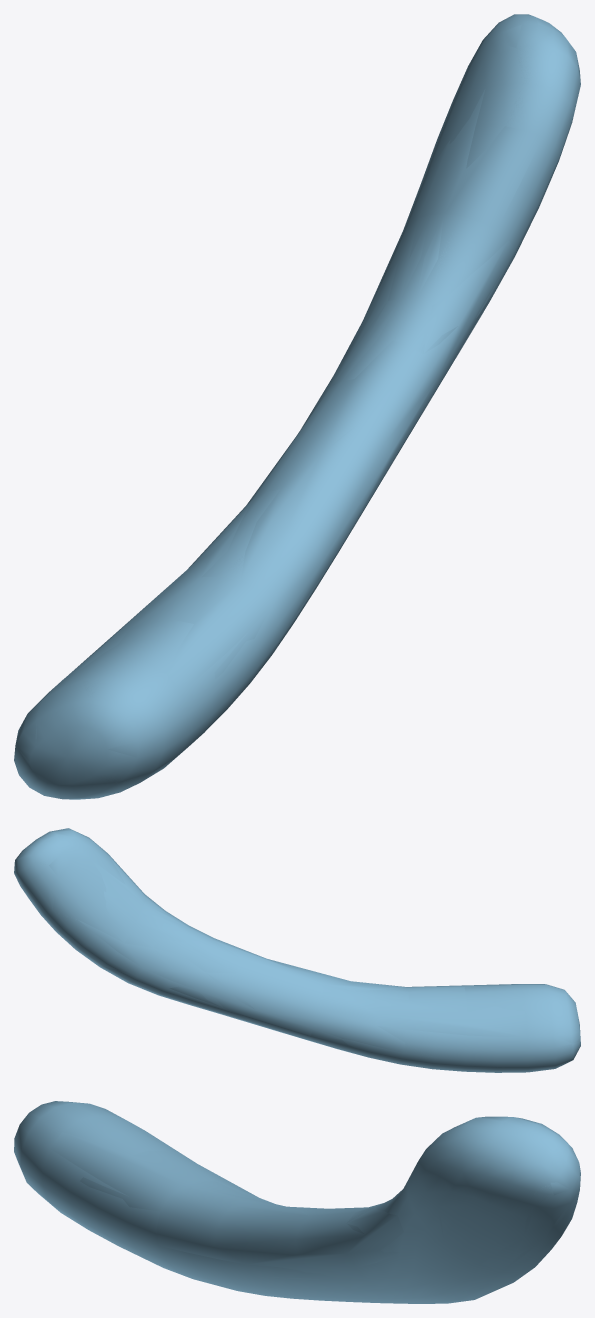
3 views of the same model, one above another, from view 1: azimuth 30°, elevation 25°; view 2: azimuth 150°, elevation 25°; view 3: azimuth 270°, elevation 25° (orthographic). The views are drawn at different scales.
Visible parts, largest first — view 1: CC L5 low, CC L5; view 2: CC L5, CC L5 low; view 3: CC L5, CC L5 low.
Part boxes in pixels (box(x1,y1,x2,y2)): CC L5 low: box(14, 17, 580, 799); CC L5: box(14, 14, 580, 799); CC L5: box(14, 828, 580, 1072); CC L5 low: box(14, 831, 580, 1072); CC L5: box(14, 1101, 580, 1303); CC L5 low: box(16, 1101, 578, 1303).
Size of the model in its own units: 11.67 by 6.16 by 8.17.
